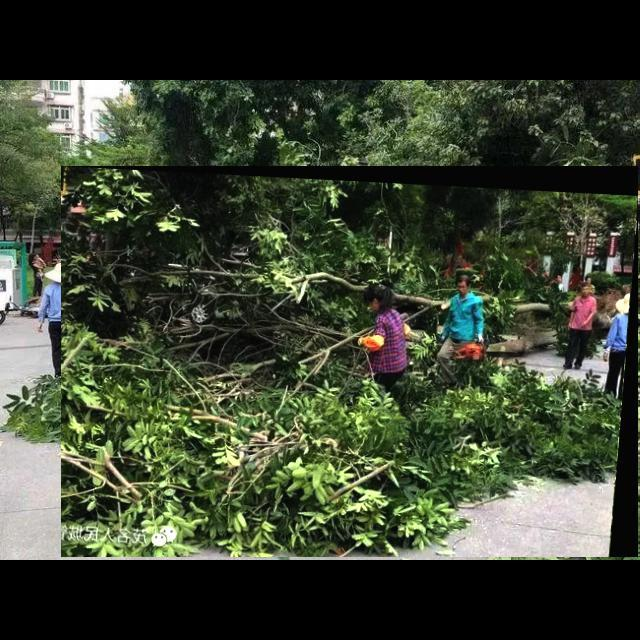fallen_tree: (61, 166, 639, 558)
